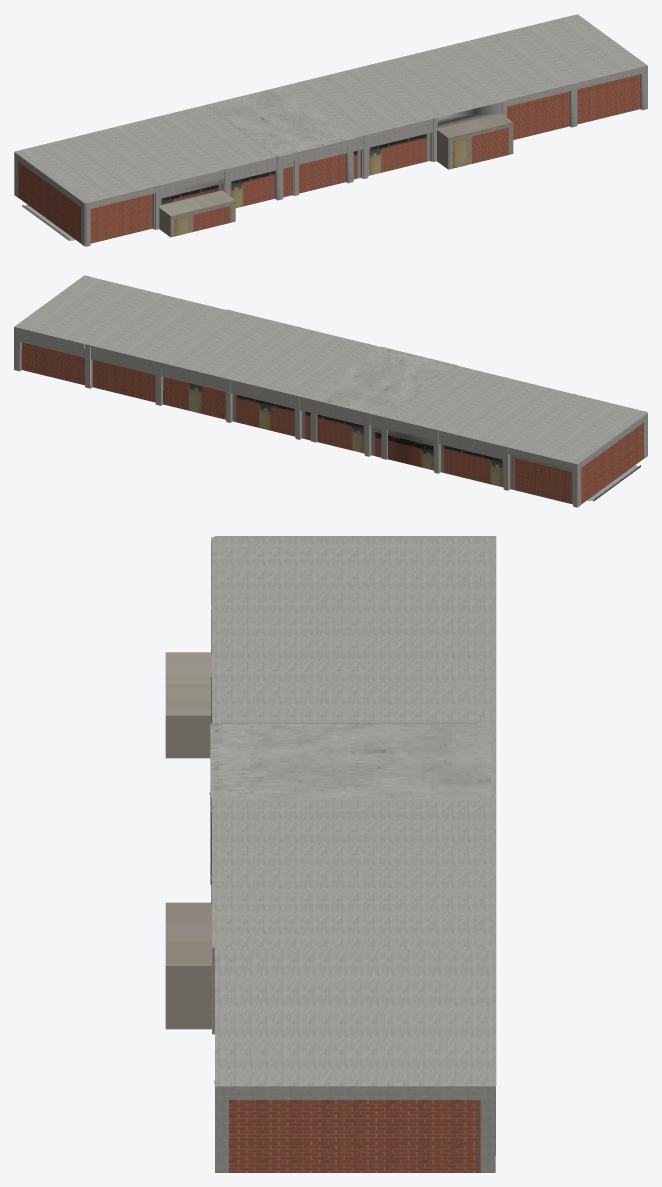
3 views of the same model, one above another, from view 1: azimuth 30°, elevation 25°; view 2: azimuth 150°, elevation 25°; view 3: azimuth 270°, elevation 25° (orthographic). The views are drawn at different scales.
Parts seen in each view (by area): view 1: Left, Right, Right.001; view 2: Right, Left, Right.001; view 3: Left, Right, Right.001.
Part boxes in pixels (box(x1,y1,x2,y2)): Left: box(16, 49, 506, 246); Right: box(14, 14, 647, 246); Right.001: box(207, 87, 353, 200); Right: box(14, 275, 647, 507); Left: box(157, 309, 647, 505); Right.001: box(310, 346, 457, 459); Left: box(211, 537, 493, 1034); Right: box(165, 536, 496, 1172); Right.001: box(209, 723, 490, 884).
Bounding box in the file's own units: 4417 × 348 × 1114.
